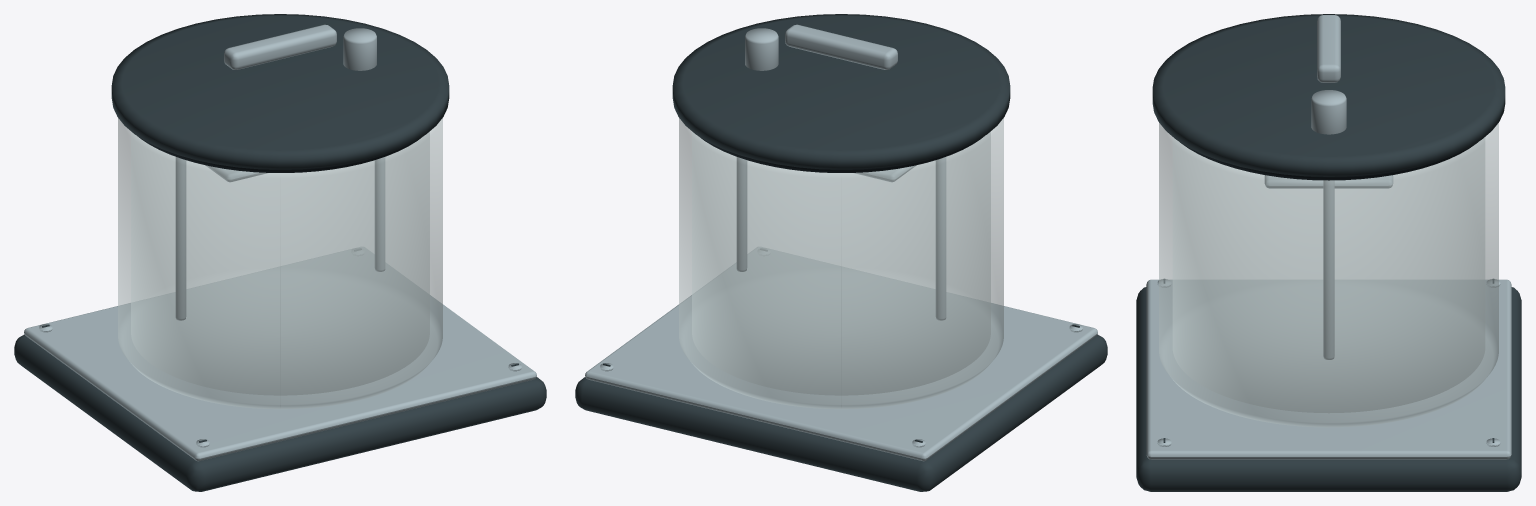
File: chamber.glb
3 renders of one model, left to right at view 1: azimuth 30°, elevation 25°; view 2: azimuth 150°, elevation 25°; view 3: azimuth 270°, elevation 25°, orthographic. The views are drawn at different scales.
Parts seen in each view (by area): view 1: Vacuum chamber wall, Satin upper panel, Vacuum lid, Machined plinth, Vacuum carry handle, Plate guide, Vacuum port, Plate guide.001, Lid seal; view 2: Vacuum chamber wall, Satin upper panel, Vacuum lid, Machined plinth, Vacuum carry handle, Plate guide, Vacuum port, Plate guide.001, Lid seal; view 3: Vacuum chamber wall, Satin upper panel, Vacuum lid, Machined plinth, Plate guide.001, Vacuum carry handle, Vacuum port, balloonPlate, Lid seal.
Part boxes in pixels (x1,y1,x2,y2): Vacuum chamber wall: (118,118,442,409); Satin upper panel: (24,247,536,461); Vacuum lid: (111,14,449,169); Machined plinth: (14,334,546,491); Vacuum carry handle: (224,24,336,69); Plate guide: (176,157,185,320); Vacuum port: (343,28,376,70); Plate guide.001: (375,157,384,271); Lid seal: (137,136,423,172); Vacuum chamber wall: (679,118,1003,409); Satin upper panel: (585,247,1097,461); Vacuum lid: (672,14,1010,169); Machined plinth: (575,334,1107,491); Vacuum carry handle: (785,24,897,69); Plate guide: (936,157,945,320); Vacuum port: (745,28,778,70); Plate guide.001: (737,157,746,271); Lid seal: (698,136,984,172); Vacuum chamber wall: (1159,123,1498,427); Satin upper panel: (1146,279,1511,459); Vacuum lid: (1152,14,1505,176); Machined plinth: (1136,287,1521,491); Plate guide.001: (1323,180,1334,359); Vacuum carry handle: (1317,15,1340,82); Vacuum port: (1311,90,1346,134); balloonPlate: (1265,175,1392,188); Lid seal: (1180,142,1477,180).
Size of the model in its own units: 0.54 by 0.5045 by 0.48.
